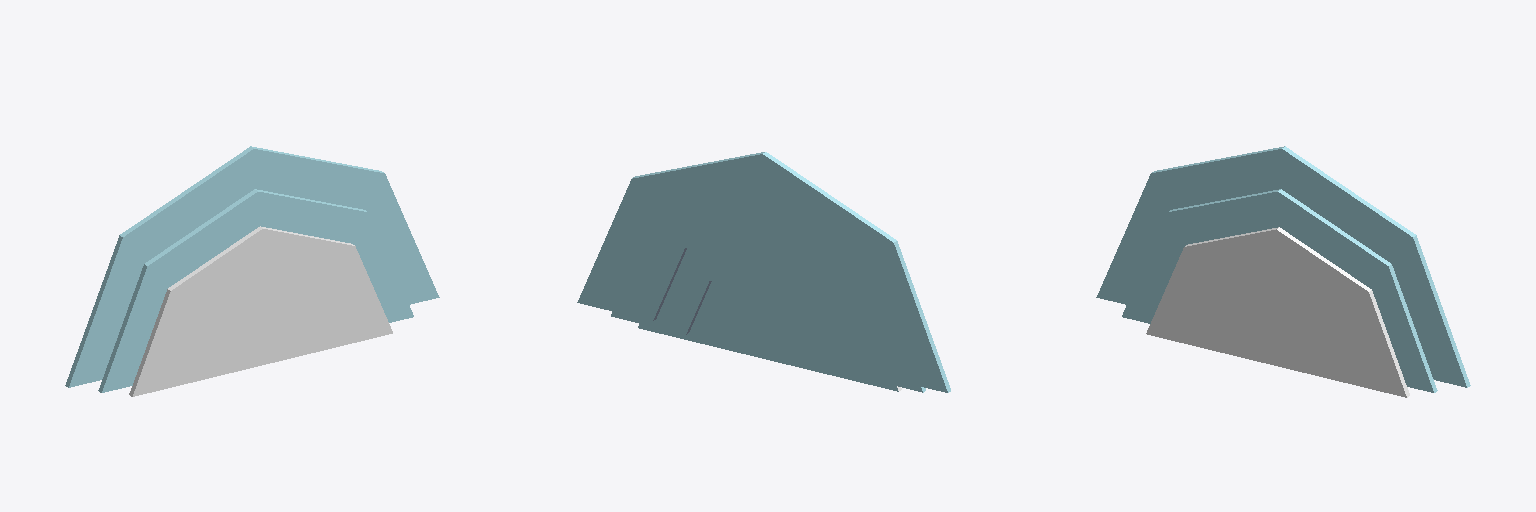
The model's file is Seats.obj.
The picture shows the model from 3 angles: view 1: azimuth 30°, elevation 25°; view 2: azimuth 150°, elevation 25°; view 3: azimuth 330°, elevation 25°; orthographic projection.
Parts seen in each view (by area): view 1: Arch; view 2: Arch; view 3: Arch.
Part boxes in pixels (x1,y1,x2,y2): Arch: (65, 146, 439, 396); Arch: (577, 152, 950, 392); Arch: (1096, 146, 1470, 397).
Size of the model in its own units: 12.78 by 6.97 by 0.63.